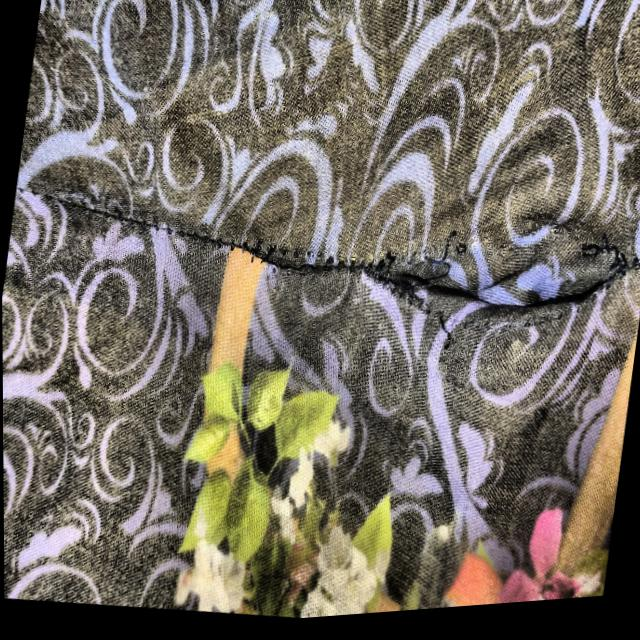seam: (215, 157, 640, 388)
